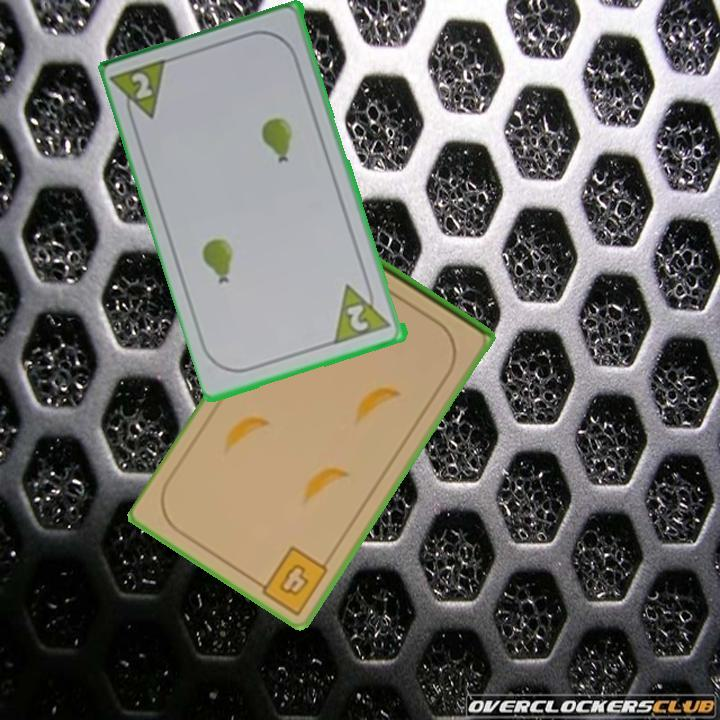2p: (110, 55, 174, 129), (331, 275, 396, 347)
4b: (251, 543, 332, 617)
